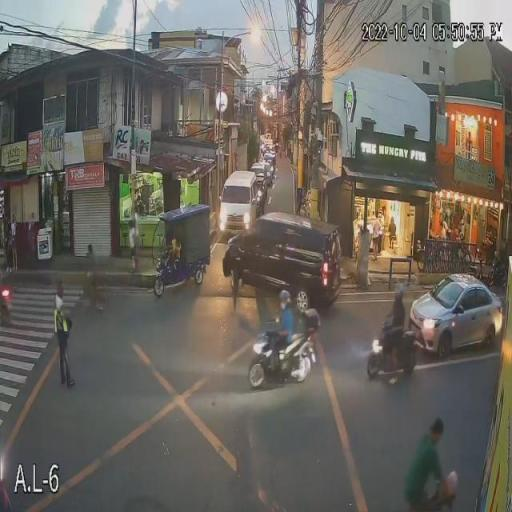helmet: (390, 282, 406, 304), (276, 289, 292, 310)
motorcycle: (247, 336, 317, 389), (364, 339, 423, 379)
rider: (271, 311, 295, 377), (389, 305, 406, 385)
